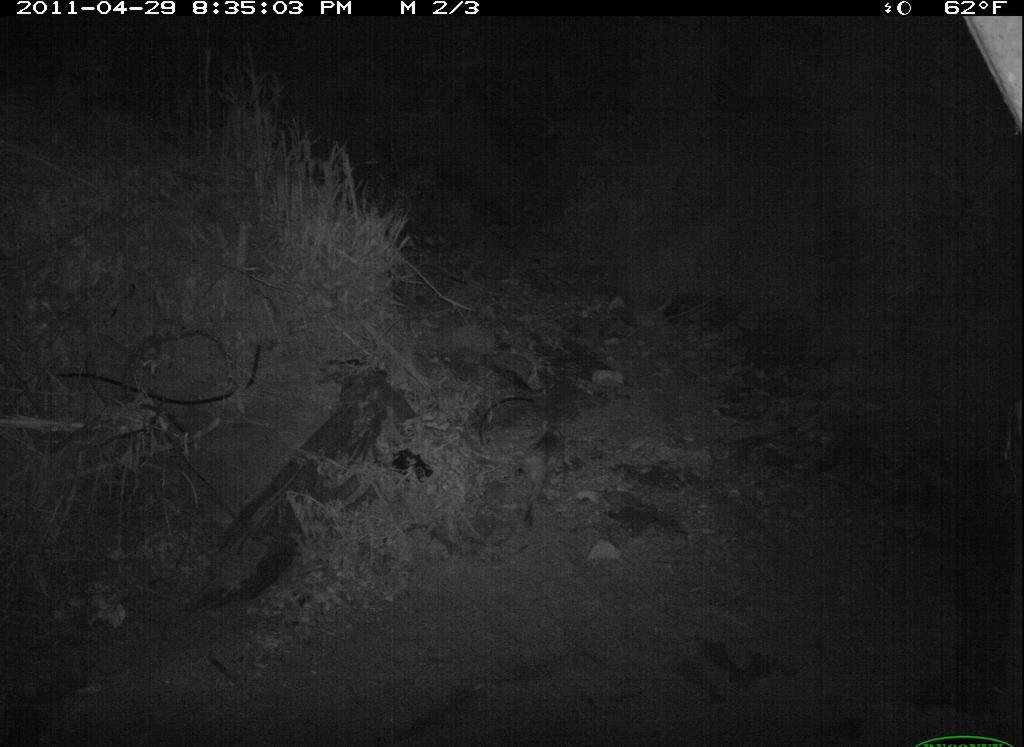bobcat: (505, 413, 578, 533)
